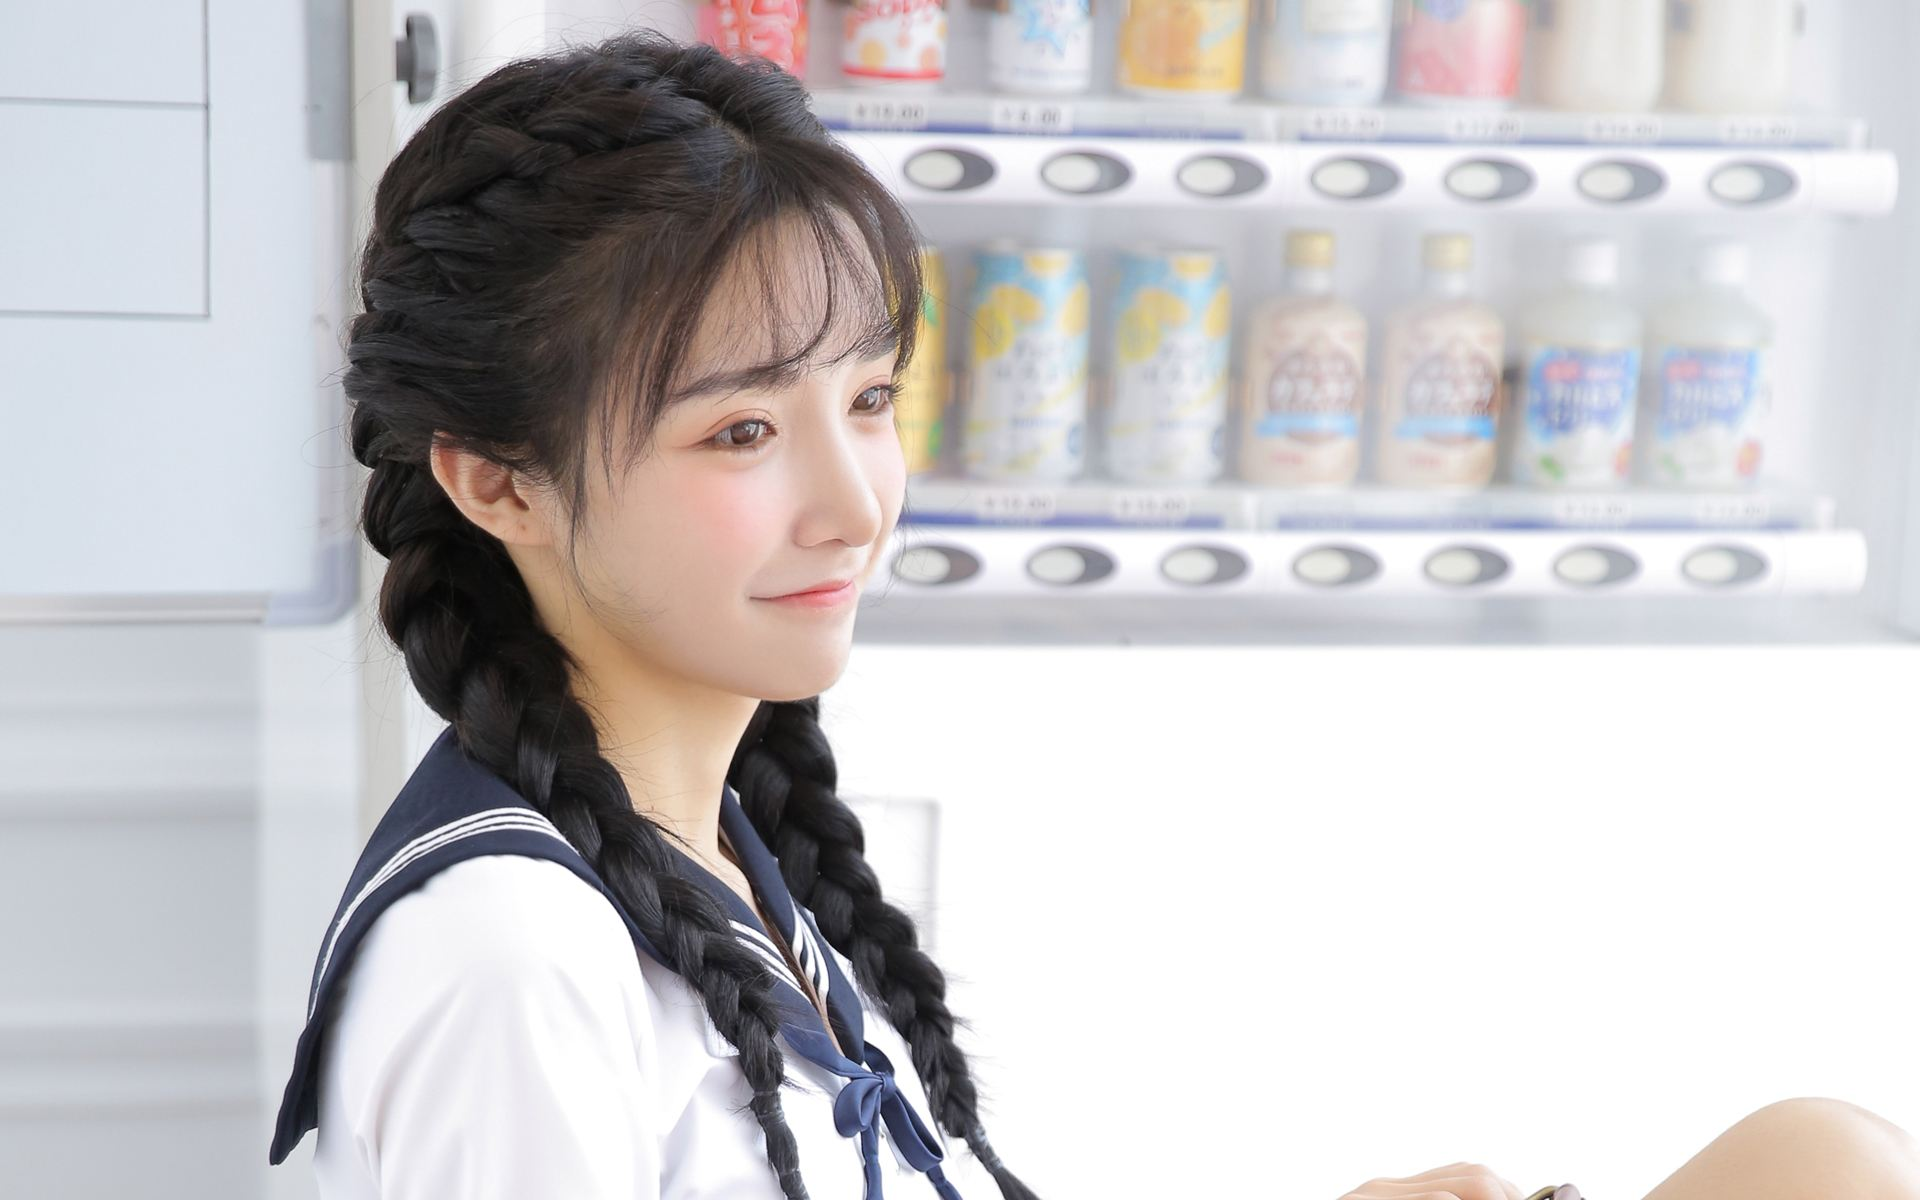person: (152, 31, 1175, 1200)
